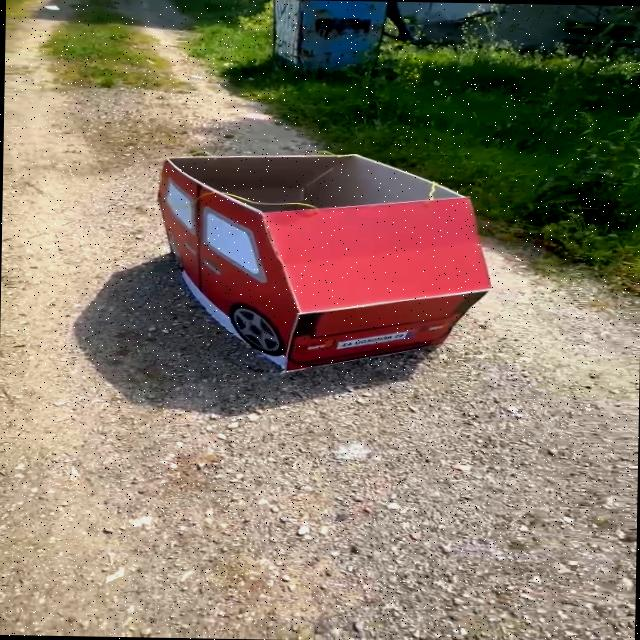red_car: (129, 116, 505, 392)
